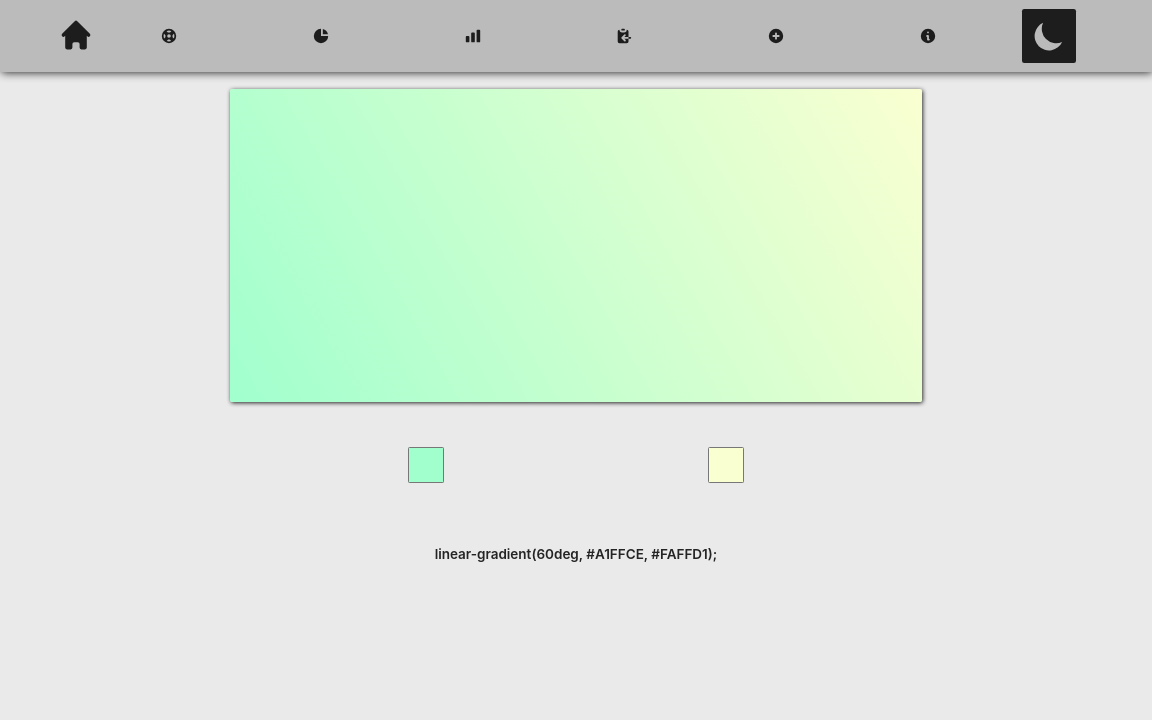
App functionality › hint popup
# make sure that navigation5 is the hint button
Hover over the 6th list item.
mouse_move(928, 36)  # box [918, 27, 936, 45]
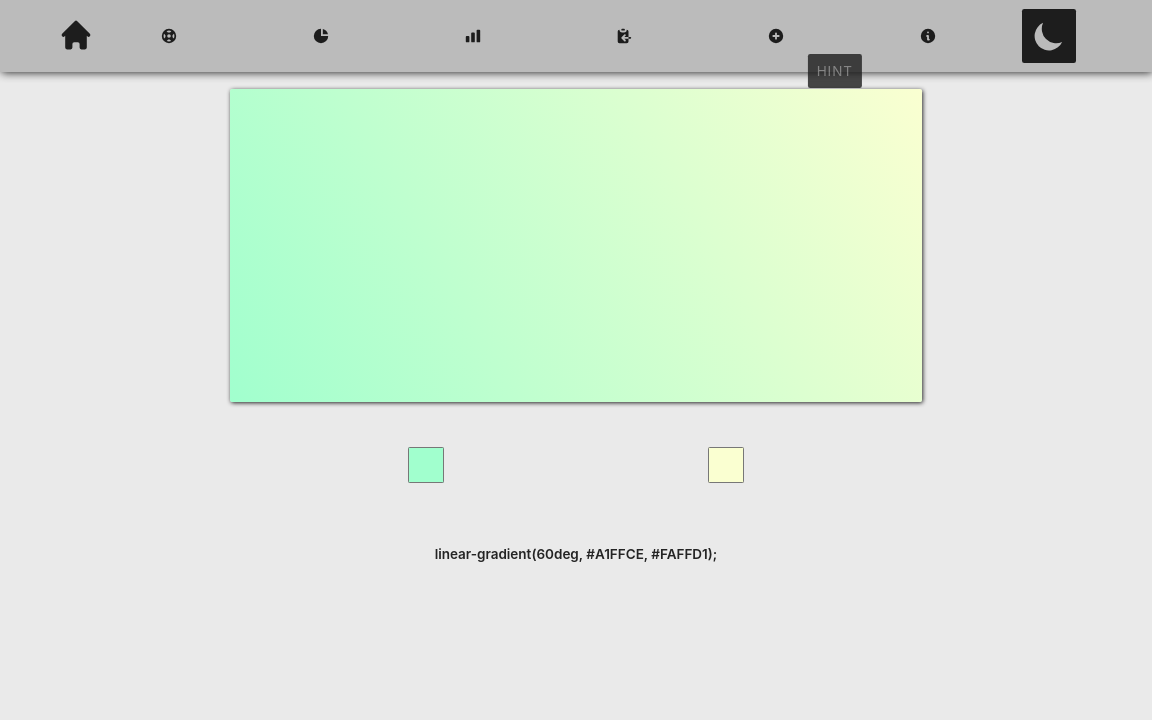
Expected: the text "hint" is shown, [808, 54, 862, 88]
# display popup
Click the 6th list item.
click(928, 36)  # box [918, 27, 936, 45]
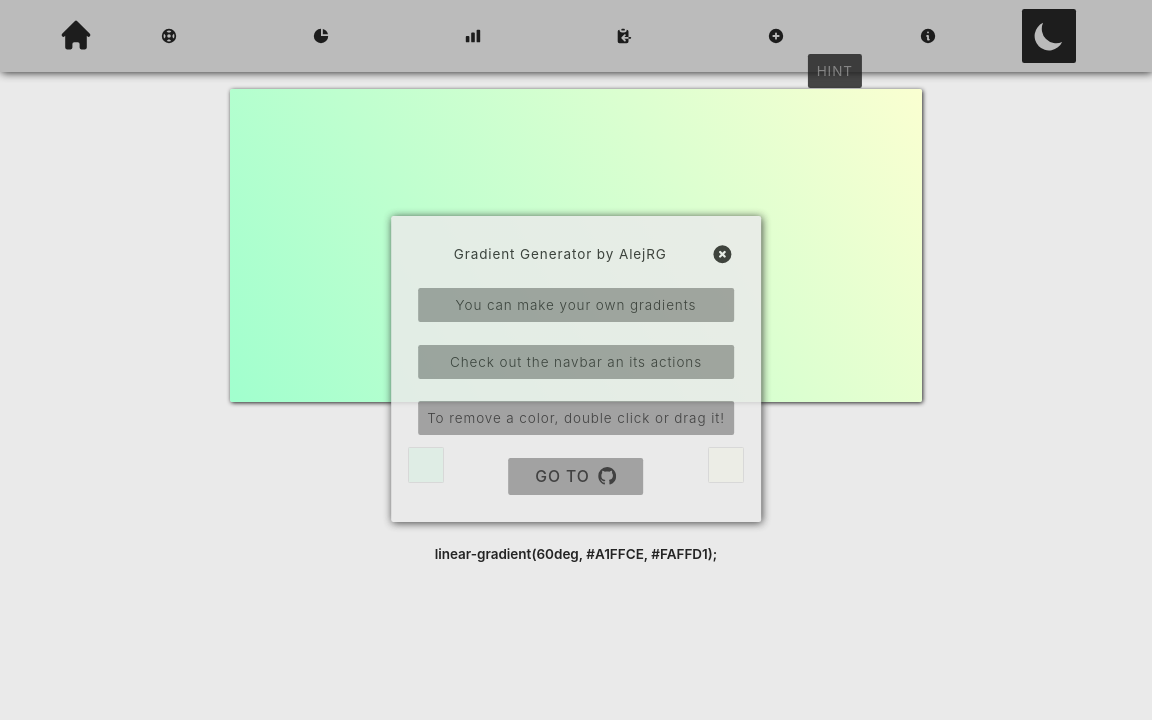
Expected: the heading "Gradient Generator by AlejRG" is shown, [454, 246, 667, 262]
# close popup
Click the icon with test id "exit-btn".
click(723, 254)  # box [711, 243, 734, 266]
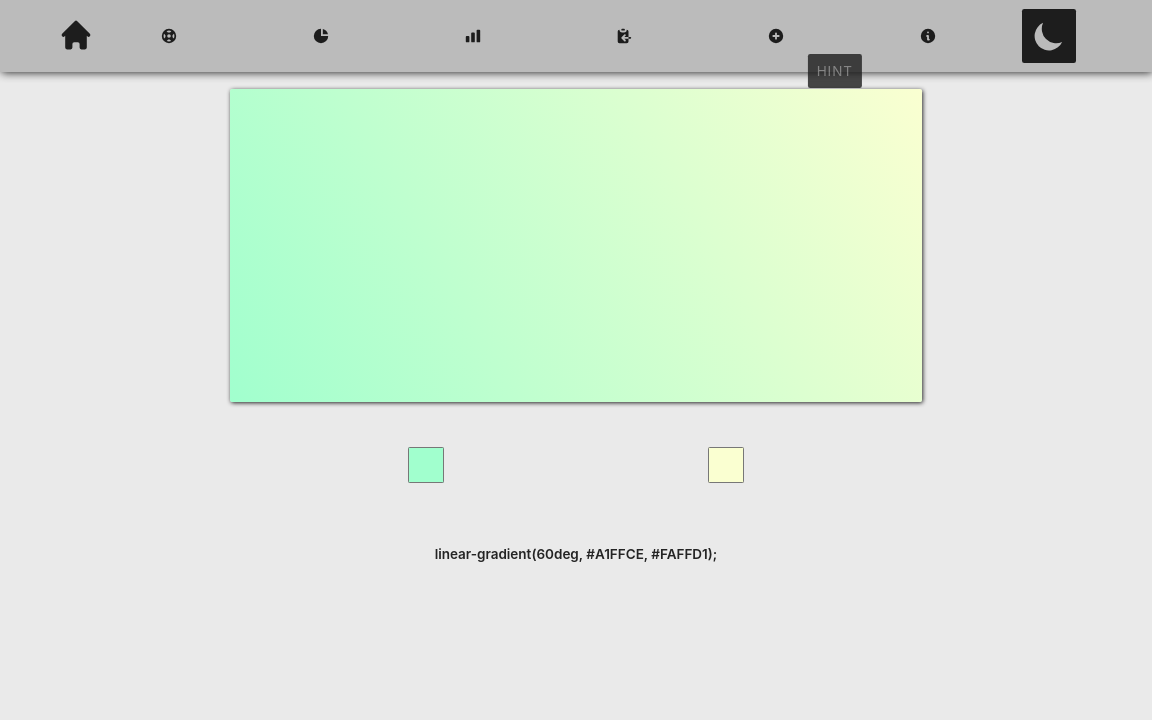
Expected: the heading "Gradient Generator by AlejRG" is gone
